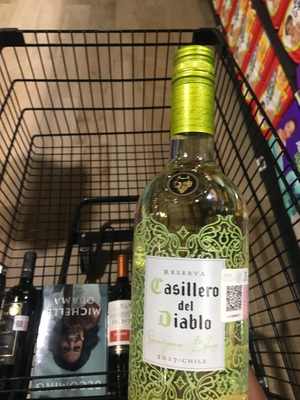casillero del diablo sauvignon blanc: (122, 43, 259, 400)
